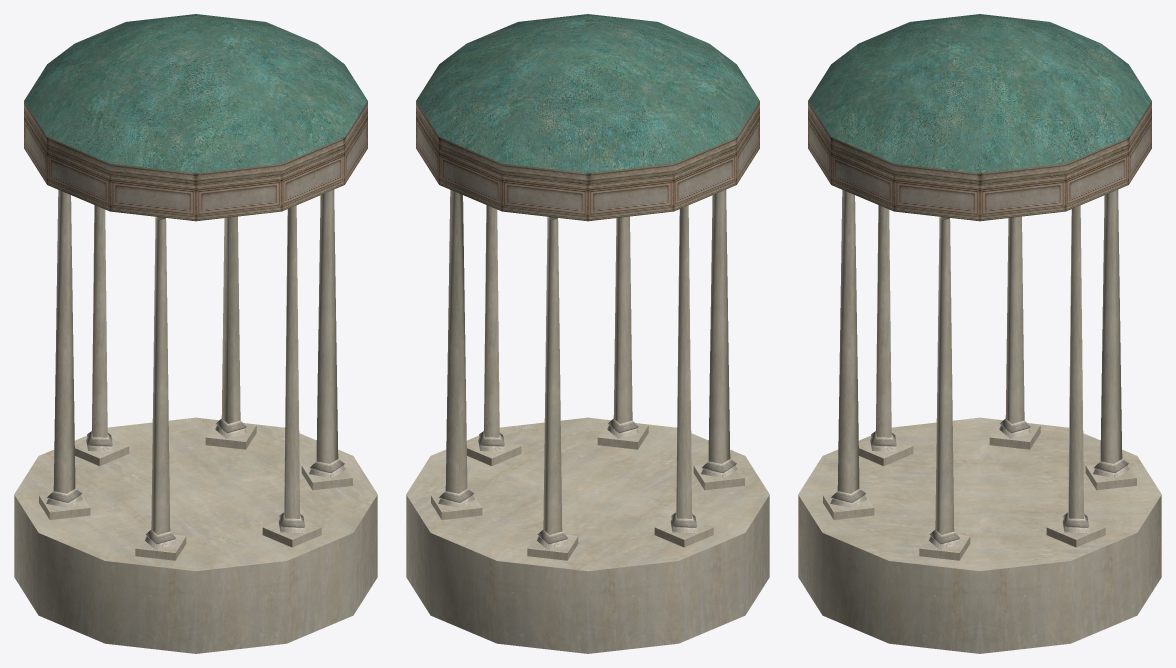
The model's file is thm_nboo_imprv_garden_gazebo_lg_s01_l1.fbx.
3 views of the same model, side by side, from view 1: azimuth 30°, elevation 25°; view 2: azimuth 150°, elevation 25°; view 3: azimuth 270°, elevation 25° (orthographic).
Parts seen in each view (by area): view 1: mesh_node; view 2: mesh_node; view 3: mesh_node.
Boxes of the visible parts, x1=… form: mesh_node: x1=14, y1=14, x2=377, y2=653; mesh_node: x1=406, y1=14, x2=769, y2=653; mesh_node: x1=798, y1=14, x2=1161, y2=653.
Bounding box in the file's own units: 8.82 × 14.52 × 8.82.
